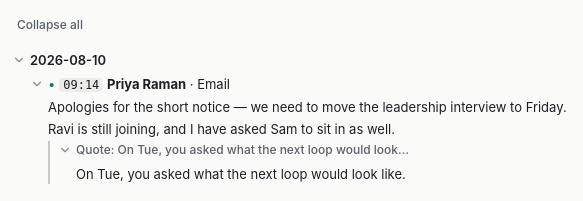
it: a log of records › counts every fold when the note is one, so the days go with the points
This screenshot has width=583, height=201.
Click the button with aria-label "Collapse all points in Note": (50, 25) top-left (12, 12), bottom-right (88, 38)
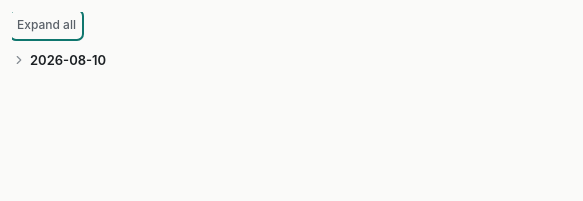
Check: the heading "2026-08-10" is shown, box top-left (12, 52), bottom-right (106, 68)
Check: the text "Priya Raman" is gone
